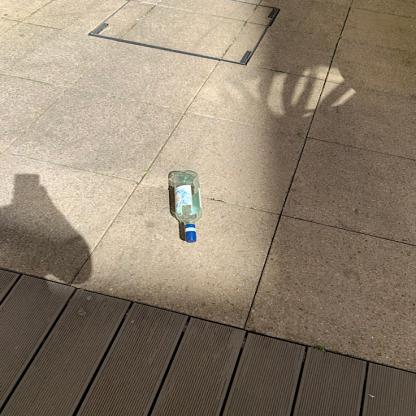trash: (168, 166, 208, 247)
